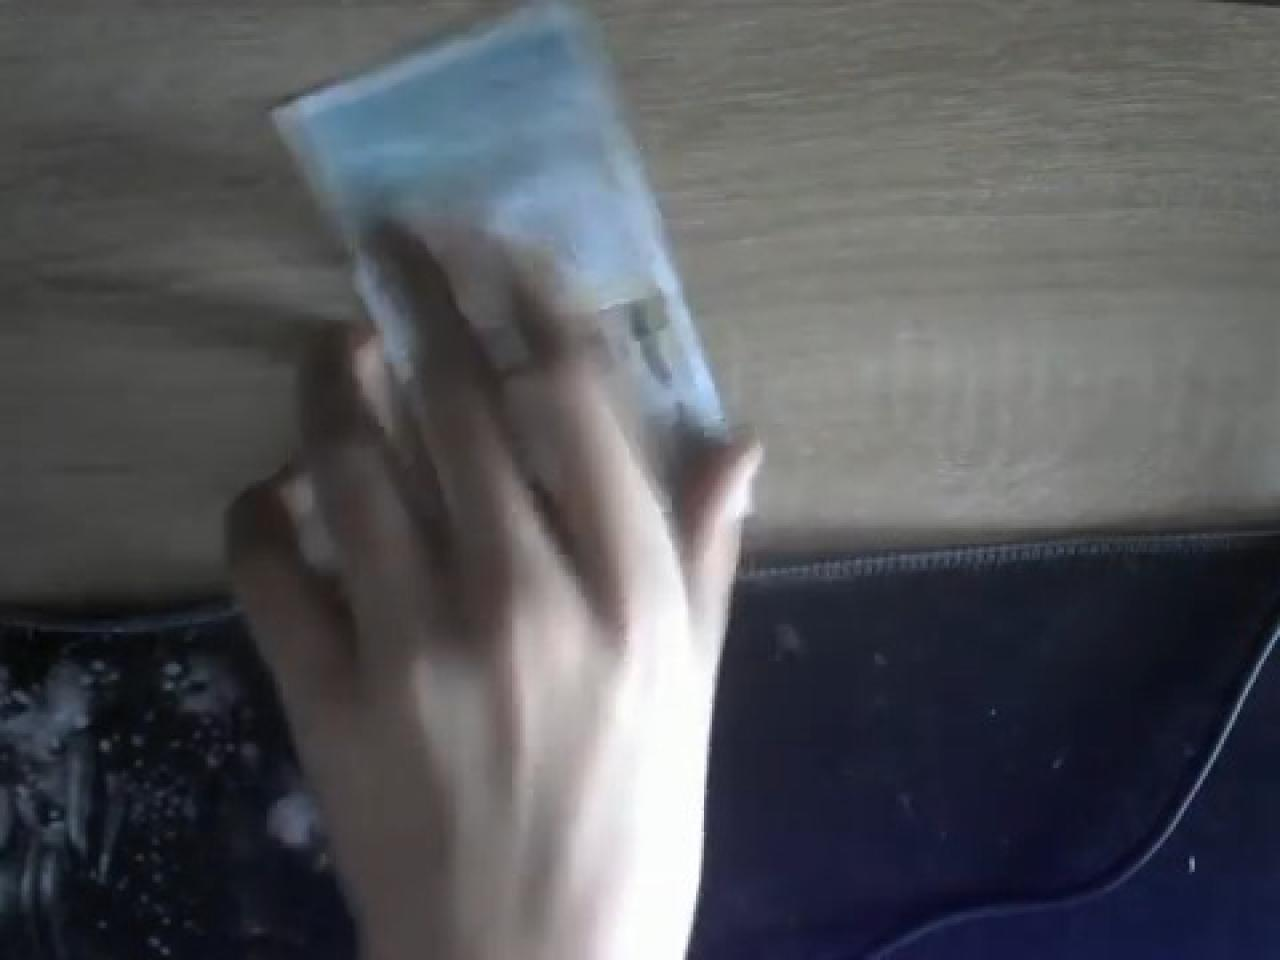20leva: (218, 213, 762, 960)
